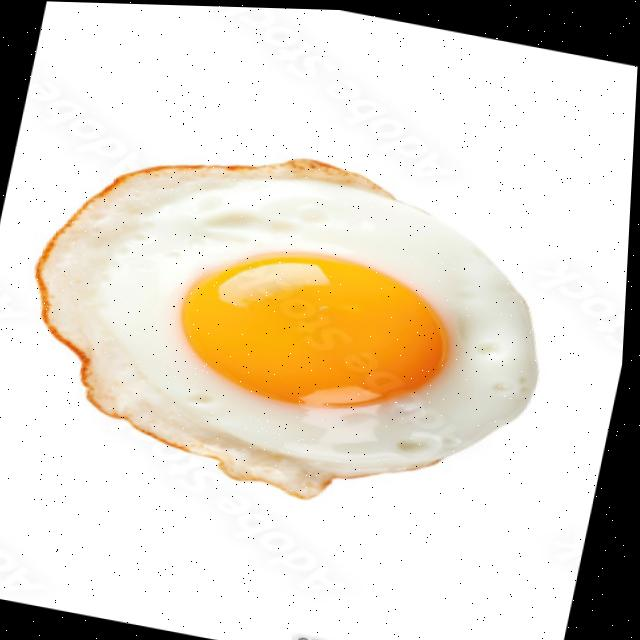Egg: (43, 157, 540, 493)
